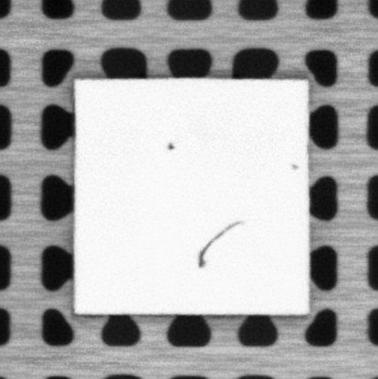DIE_INK: (197, 221, 244, 268), (164, 141, 175, 151), (289, 162, 300, 170)
